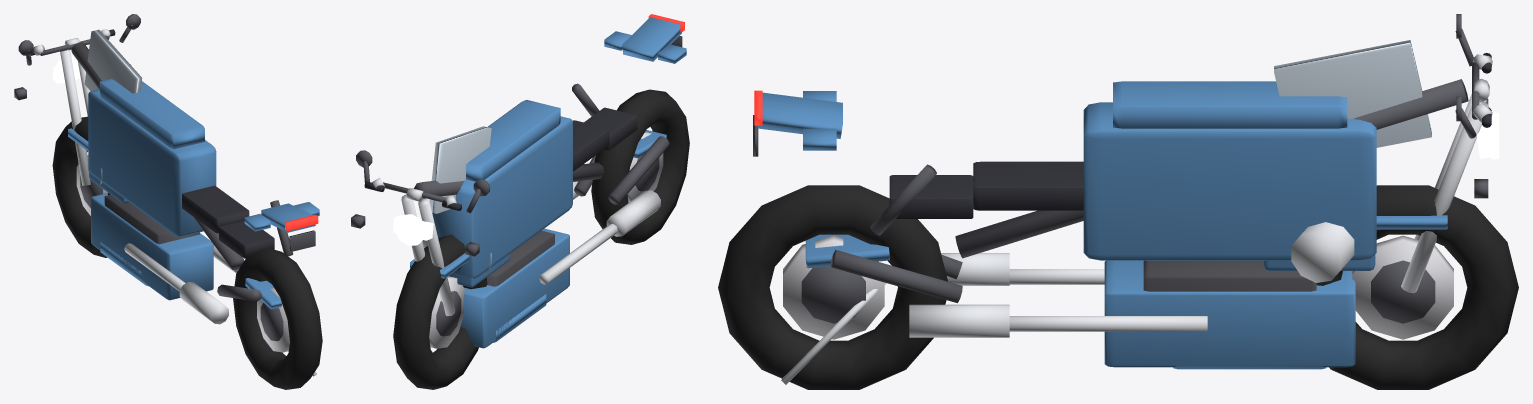
File: bike_sporttourer.glb
3 renders of one model, left to right at view 1: azimuth 30°, elevation 25°; view 2: azimuth 150°, elevation 25°; view 3: azimuth 270°, elevation 25°, orthographic. The views are drawn at different scales.
Parts seen in each view (by area): view 1: Tank, Tire1, BellyFull, TankTop, Tire0, Seat, Screen, SeatRear, Engine, Fork-1, FrameMain, ExhCan-1 (+13 smaller); view 2: Tank, Tire1, Tire0, BellyFull, TankTop, Screen, Tail, Engine, Seat, ExhCan-1, SeatRear, Swingarm_R (+16 smaller); view 3: Tank, Tire1, BellyFull, Tire0, TankTop, Screen, Seat, FrameMain, Engine, Rim0, ExhCan1, Rim1 (+17 smaller).
Part boxes in pixels (bbox=[...]): Tank: bbox=[88, 89, 216, 237]; Tire1: bbox=[233, 248, 322, 389]; BellyFull: bbox=[91, 193, 213, 300]; TankTop: bbox=[99, 78, 204, 149]; Tire0: bbox=[52, 116, 110, 257]; Seat: bbox=[182, 185, 249, 233]; Screen: bbox=[84, 29, 142, 93]; SeatRear: bbox=[219, 220, 274, 258]; Engine: bbox=[104, 194, 199, 244]; Fork-1: bbox=[60, 50, 90, 185]; FrameMain: bbox=[71, 42, 244, 270]; ExhCan-1: bbox=[179, 282, 228, 324]; Tank: bbox=[432, 116, 572, 278]; Tire1: bbox=[591, 89, 689, 244]; Tire0: bbox=[393, 234, 487, 389]; BellyFull: bbox=[460, 228, 569, 348]; TankTop: bbox=[466, 100, 560, 181]; Screen: bbox=[429, 126, 491, 213]; Tail: bbox=[622, 17, 681, 61]; Engine: bbox=[487, 230, 554, 286]; Seat: bbox=[573, 120, 609, 171]; ExhCan-1: bbox=[606, 190, 660, 236]; SeatRear: bbox=[584, 107, 637, 150]; Swingarm_R: bbox=[608, 136, 669, 204]; Tank: bbox=[1083, 102, 1376, 260]; Tire1: bbox=[718, 185, 947, 389]; BellyFull: bbox=[1104, 260, 1355, 367]; Tire0: bbox=[1316, 185, 1518, 389]; TankTop: bbox=[1113, 81, 1347, 128]; Screen: bbox=[1274, 40, 1431, 147]; Seat: bbox=[973, 161, 1083, 210]; FrameMain: bbox=[955, 79, 1468, 258]; Engine: bbox=[1143, 260, 1316, 291]; Rim0: bbox=[1352, 235, 1453, 339]; ExhCan1: bbox=[909, 304, 1009, 337]; Rim1: bbox=[783, 235, 884, 339].
Size of the model in its own units: 0.7856 by 1.37 by 2.87.
